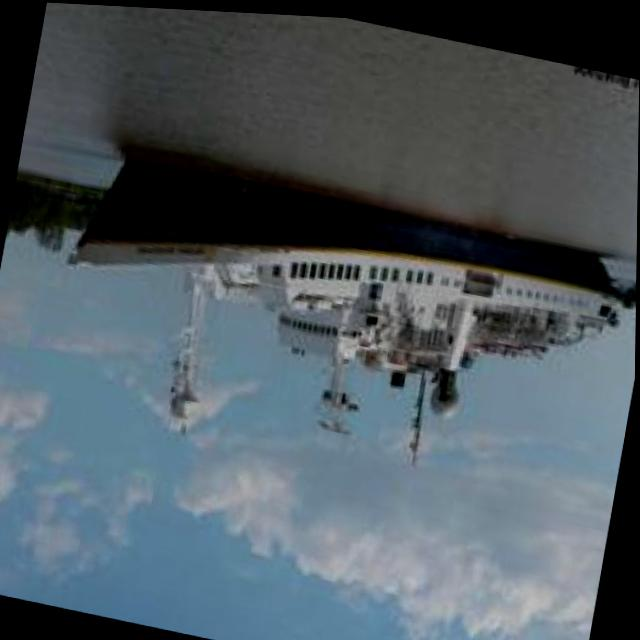ship2: (69, 153, 625, 458)
